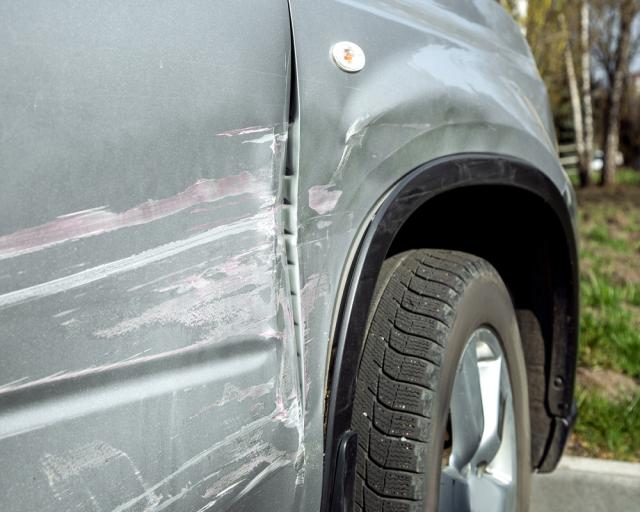dent: (297, 92, 507, 346)
scratch: (0, 117, 311, 512)
